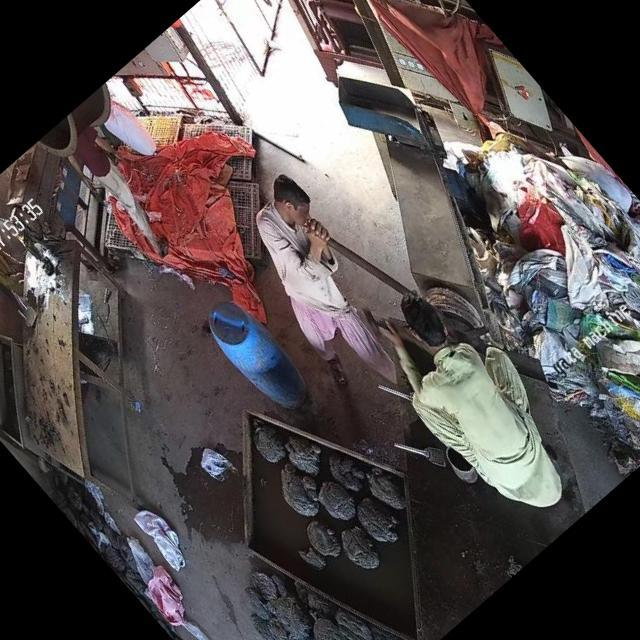person: (359, 274, 594, 520), (217, 168, 438, 402), (49, 108, 193, 263)
